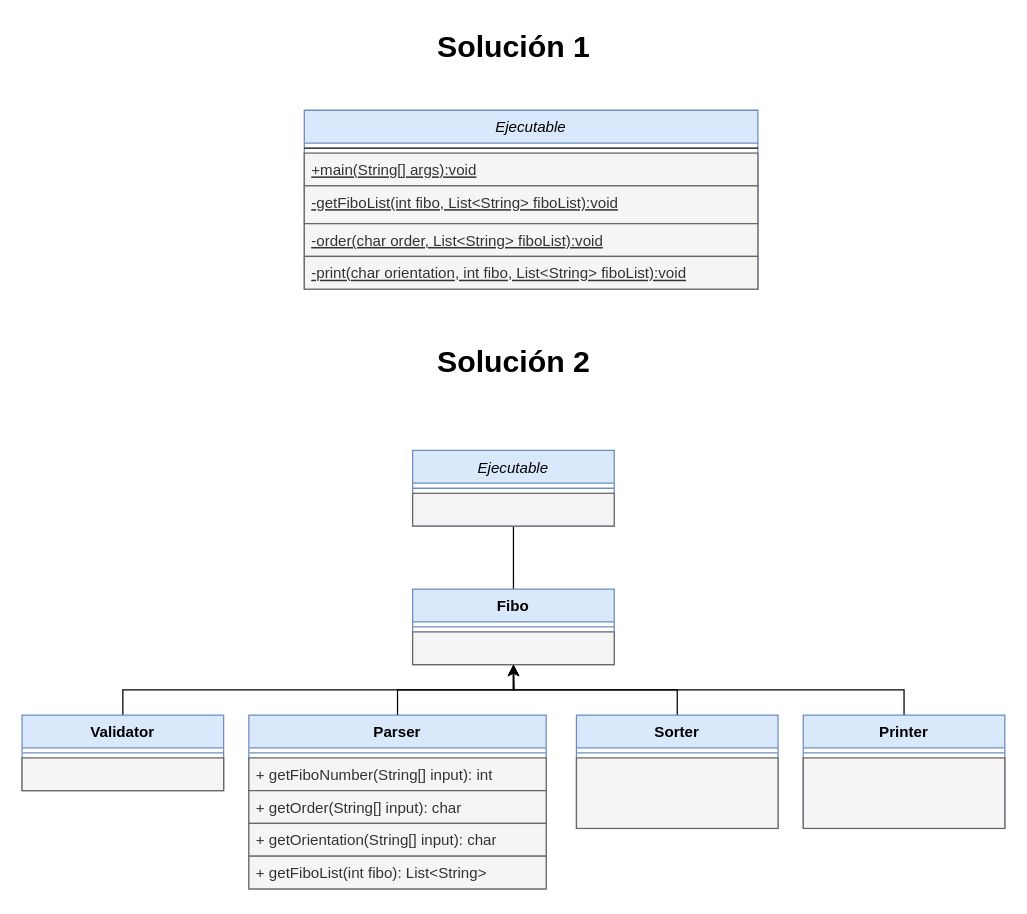
Image size: 1027x914. Some labels were removed from this diagram. Here are the shapes that lost their labels. From the top down, the centre of each, then its label:
At point (512, 509): "+ main(String[] args): void".
At point (512, 648): "+ execute(): void".
At point (122, 774): "+ isInputValid(): boolean".
At point (676, 792): "+ sort(char order, List<String> fiboList): boolean".
At point (903, 792): "+ print(char orientation, int fibo, List<String> fiboList):void".
